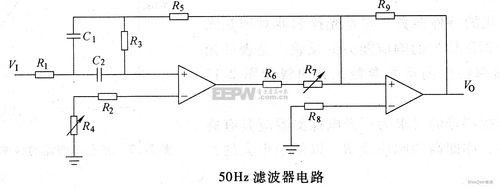amplifier: (380, 72, 428, 118), (173, 62, 218, 107)
cap1: (65, 29, 82, 43), (94, 66, 105, 83)
gnd: (63, 154, 85, 167), (282, 142, 301, 157)
res1: (166, 11, 191, 23), (33, 69, 56, 81), (301, 79, 325, 90), (68, 114, 79, 137), (96, 91, 119, 102), (373, 11, 397, 21), (302, 102, 327, 111), (120, 30, 129, 52), (261, 80, 283, 89)
